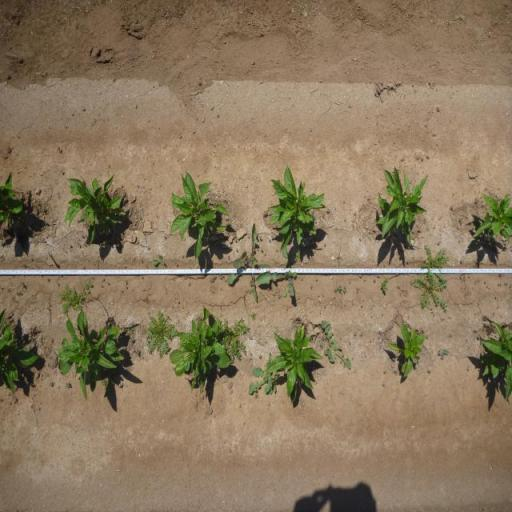plant: (55, 308, 129, 402), (168, 170, 230, 261), (168, 307, 232, 395), (265, 165, 327, 250), (266, 322, 325, 406), (64, 171, 126, 246), (375, 165, 430, 248), (0, 307, 39, 395), (479, 320, 512, 404), (386, 322, 426, 380), (472, 190, 512, 244), (0, 169, 22, 228)
weed: (226, 223, 273, 303), (410, 244, 451, 314), (256, 246, 298, 298), (210, 312, 251, 362), (145, 310, 178, 359), (322, 320, 352, 369), (247, 351, 281, 394), (58, 282, 85, 312), (100, 376, 118, 394), (152, 254, 166, 268), (84, 276, 94, 294), (438, 348, 450, 359), (294, 248, 302, 262), (380, 279, 388, 292), (334, 284, 342, 294), (278, 291, 287, 299), (20, 280, 26, 290), (134, 347, 140, 357), (48, 380, 54, 388), (126, 327, 134, 333), (250, 312, 256, 320), (16, 291, 22, 298), (481, 315, 488, 321), (30, 336, 36, 342), (262, 210, 268, 216), (458, 218, 464, 224), (475, 278, 481, 284), (343, 286, 347, 294), (124, 279, 127, 289), (219, 274, 224, 280), (449, 204, 454, 210), (486, 284, 491, 290), (312, 213, 316, 220), (40, 206, 44, 212), (66, 382, 70, 388), (130, 338, 134, 344), (174, 260, 178, 266), (210, 278, 214, 284), (359, 272, 363, 278), (254, 393, 258, 398), (427, 369, 431, 374), (498, 282, 502, 287), (44, 220, 47, 226), (259, 354, 262, 360), (322, 214, 326, 218), (383, 370, 387, 374), (382, 383, 386, 387), (393, 370, 397, 374), (418, 228, 422, 232), (213, 274, 216, 279), (354, 332, 357, 337), (426, 335, 429, 340), (259, 236, 262, 240), (260, 248, 263, 252), (310, 283, 312, 289), (327, 208, 330, 212), (349, 278, 351, 284), (373, 279, 376, 283), (392, 358, 395, 362), (459, 276, 462, 280), (484, 280, 487, 284), (320, 343, 322, 348), (106, 282, 110, 284), (250, 352, 252, 356), (364, 278, 366, 282), (398, 284, 400, 288), (316, 278, 318, 282), (412, 230, 414, 234), (478, 336, 480, 338)
